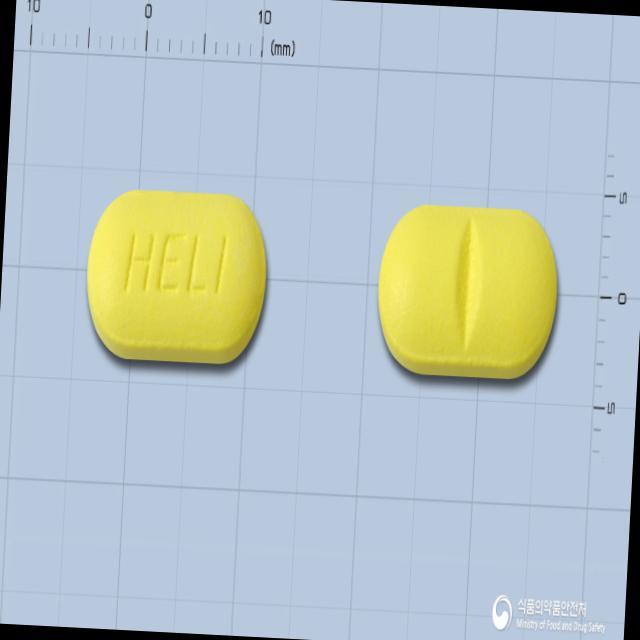Helico: (83, 187, 272, 368)
